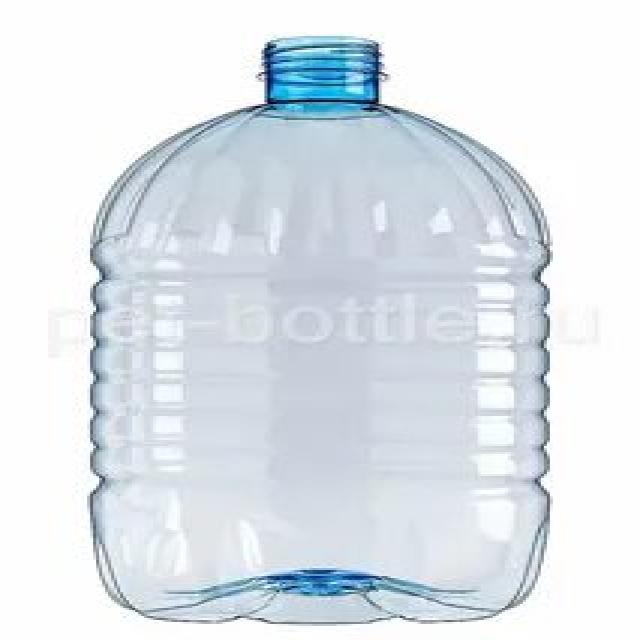blue: (90, 35, 553, 625)
